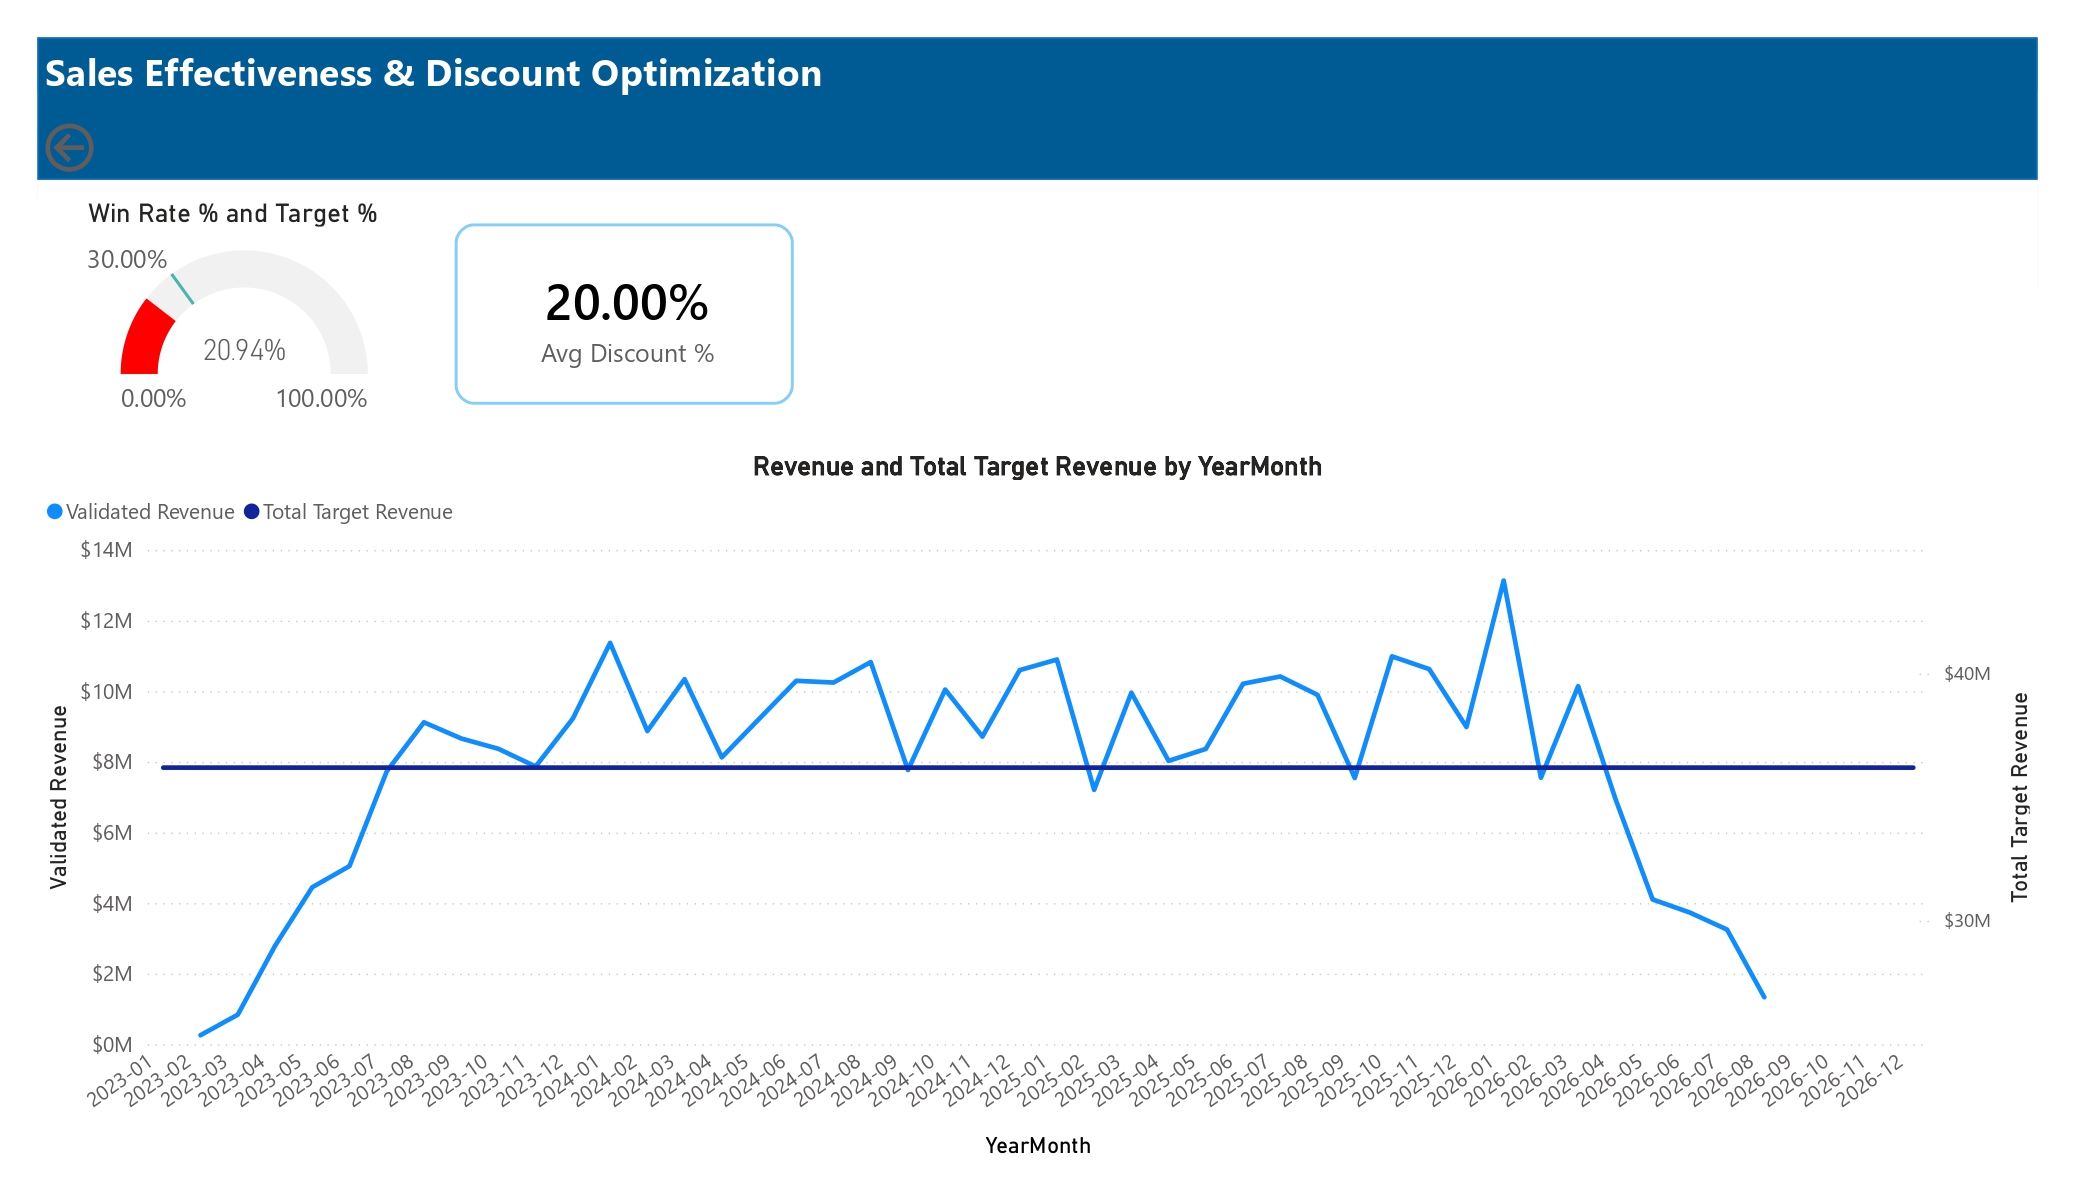

What the dashboard file says about the page in this screenshot:
{"tool":"powerbi","page":{"name":"Growth and Optimization","canvas":[1280,720],"ordinal":1},"visuals":[{"type":"shape","box":[0,0,1280.1,91.1],"z":0},{"type":"cardVisual","fields":{"Data":["DAX_Measures.Avg Discount %"]},"box":[250.5,102.5,250.5,149.6],"z":1000},{"type":"gauge","fields":{"Y":["DAX_Measures.Win Rate %"],"TargetValue":["DAX_Measures.Target"]},"box":[0,102.5,250.5,149.6],"z":2000},{"type":"textbox","box":[0,0,671.8,45.5],"z":3000},{"type":"actionButton","box":[0,50.4,99.2,40.7],"z":4000},{"type":"lineChart","title":"Revenue and Total Target Revenue by YearMonth","fields":{"Category":["Date.YearMonth"],"Y":["DAX_Measures.Validated Revenue"],"Y2":["DAX_Measures.Total Target Revenue"]},"box":[0,263.5,1280.1,457.1],"z":5000}]}

Visuals, with their boxes on the page's 1280x720 design canvas (x1, y1, x2, y2). These are canvas units, not pixel positions in the 2075x1200 screenshot, which may show the page scaled, cropped or inside an application window:
shape: box(0, 0, 1280, 91)
cardVisual - DAX_Measures.Avg Discount %: box(250, 102, 501, 252)
gauge - DAX_Measures.Win Rate % x DAX_Measures.Target: box(0, 102, 250, 252)
textbox: box(0, 0, 672, 46)
actionButton: box(0, 50, 99, 91)
"Revenue and Total Target Revenue by YearMonth" lineChart: box(0, 264, 1280, 721)
